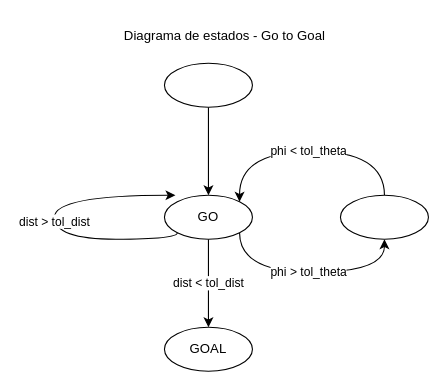
Image size: 448x391. Some labels were removed from this diagram. The centre of each missing label's shape, as x and y in pixels:
STOP: pixel 207 84
TWIST: pixel 383 216
